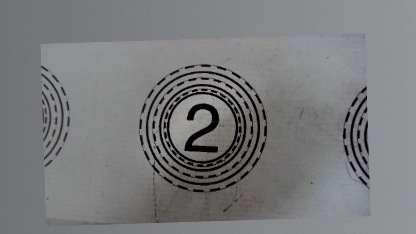2r: (135, 60, 270, 196)
